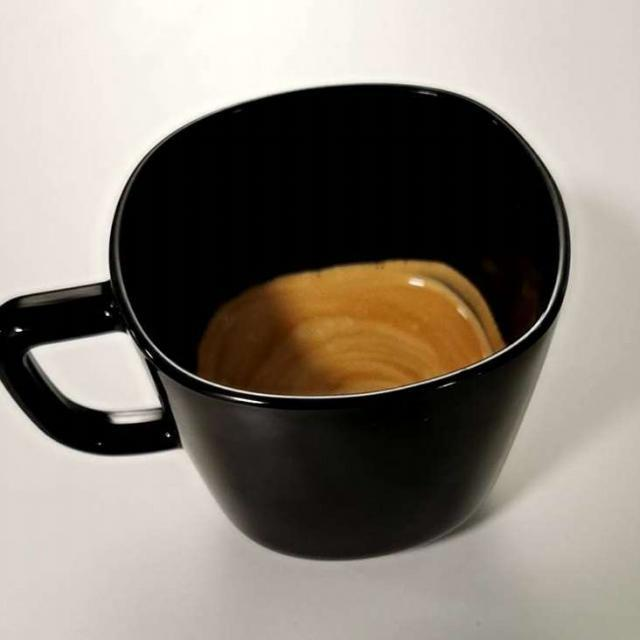risotto: (202, 267, 487, 391)
